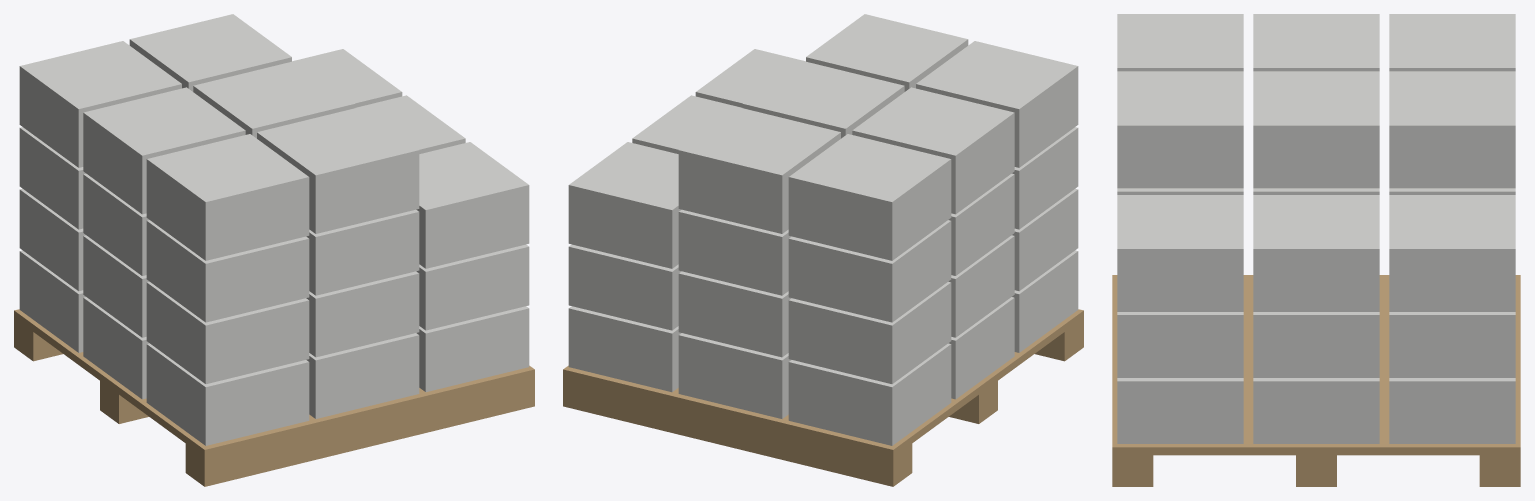
File: pallet_mp_33.glb
3 renders of one model, left to right at view 1: azimuth 30°, elevation 25°; view 2: azimuth 150°, elevation 25°; view 3: azimuth 270°, elevation 25°, orthographic. The views are drawn at different scales.
Visible parts, largest first — view 1: PalletMP; view 2: PalletMP; view 3: PalletMP.
Part boxes in pixels (<box>): PalletMP: <box>14,14,534,486</box>; PalletMP: <box>563,14,1083,486</box>; PalletMP: <box>1112,14,1520,486</box>.
Size of the model in its own units: 1 by 0.8171 by 1.
